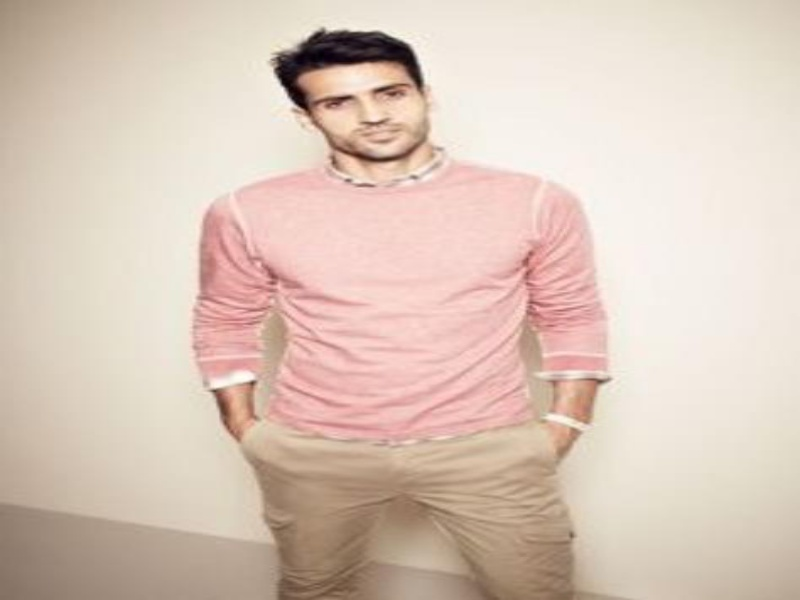TsisyArotava: (273, 26, 469, 186)
